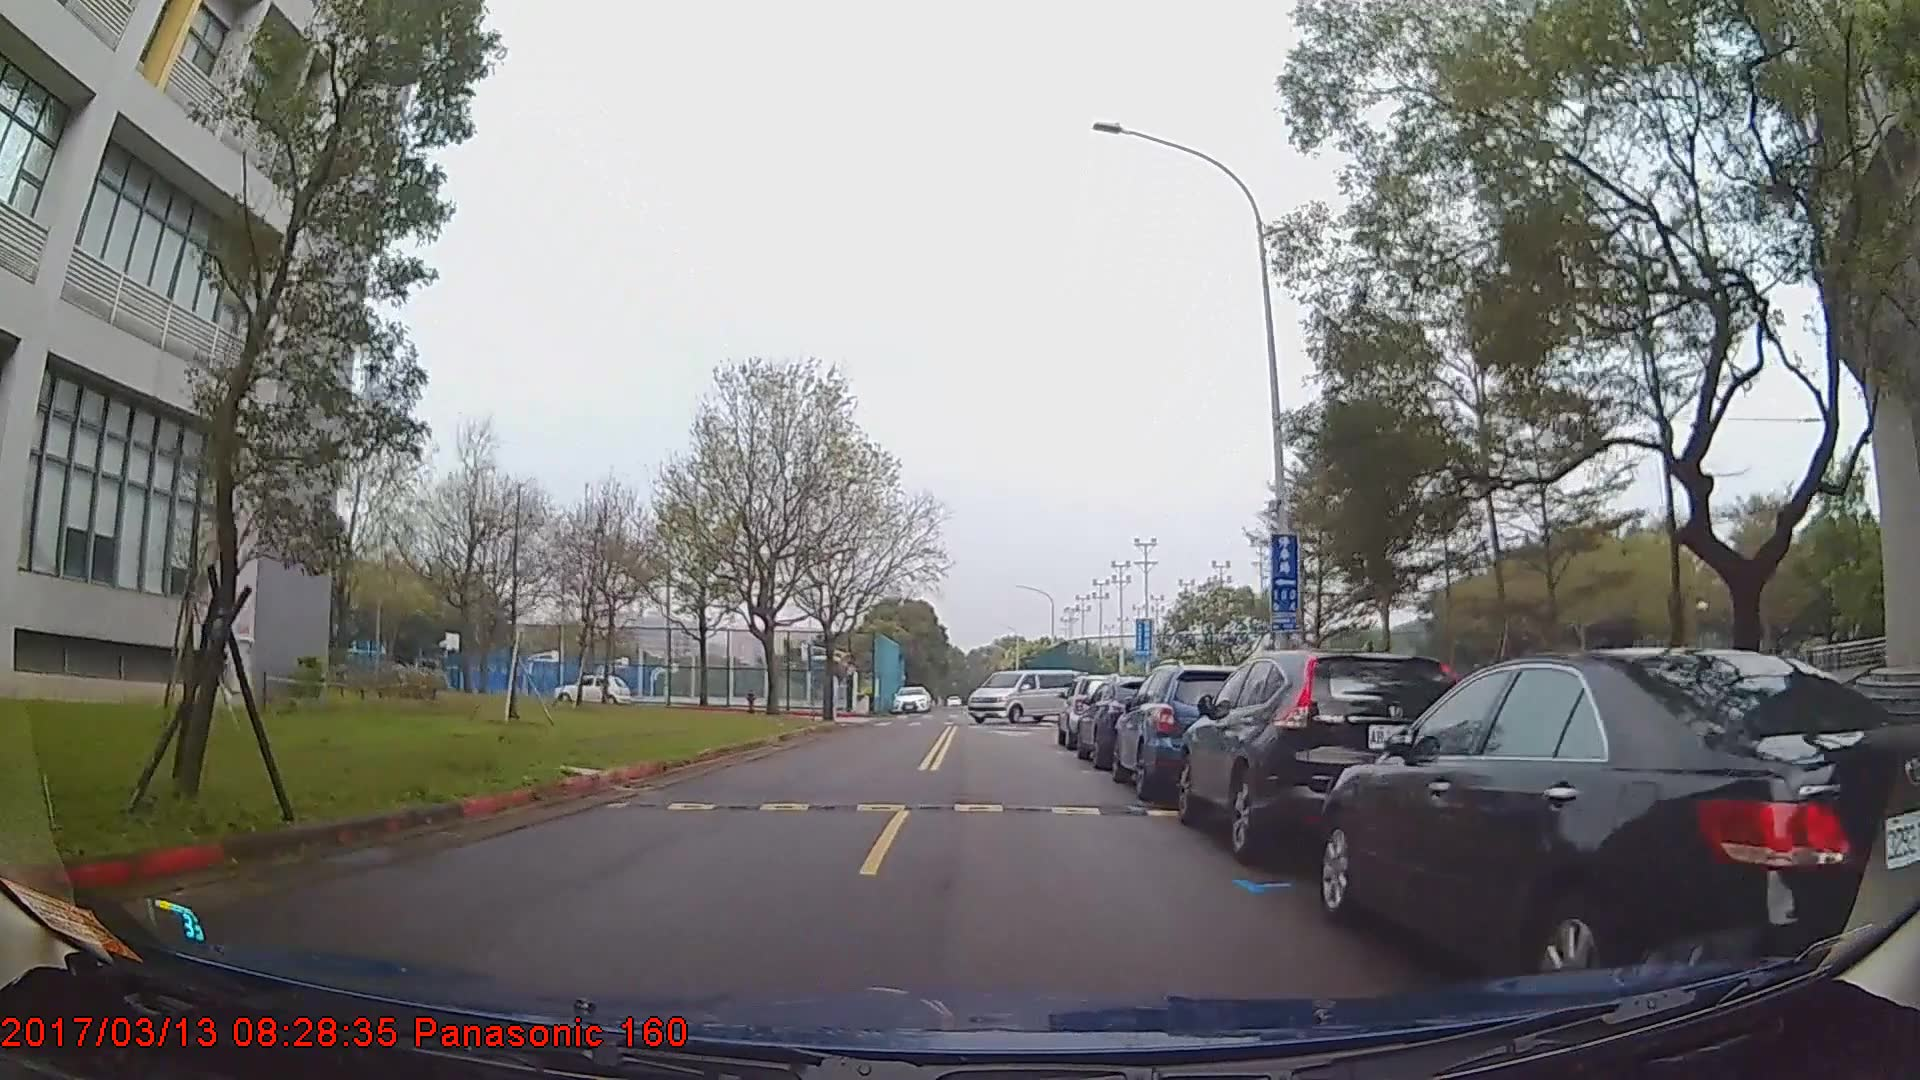vehicle: (1309, 646, 1920, 1009), (1175, 645, 1469, 862), (1110, 661, 1258, 798), (968, 667, 1083, 721), (553, 670, 632, 705), (890, 684, 932, 713)
